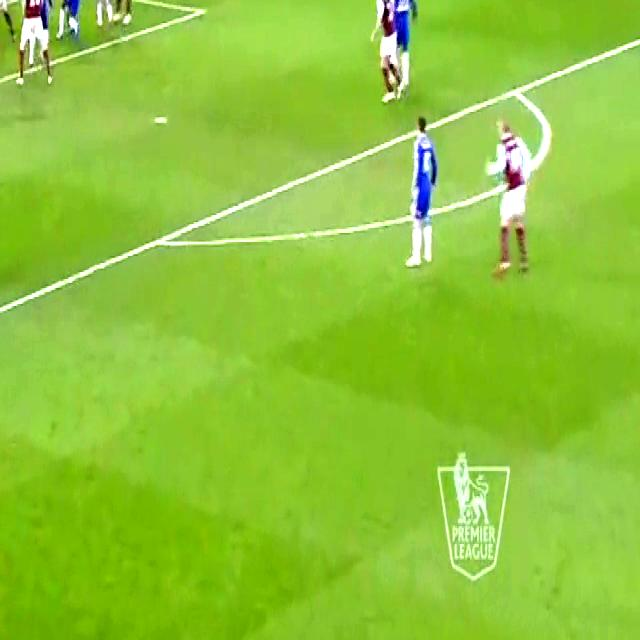soccer-player: (485, 106, 539, 286), (407, 106, 450, 278), (364, 0, 403, 108), (382, 0, 421, 105), (14, 0, 52, 89), (29, 0, 60, 91), (60, 0, 86, 44), (113, 0, 143, 34), (95, 0, 120, 34), (0, 0, 12, 46)
